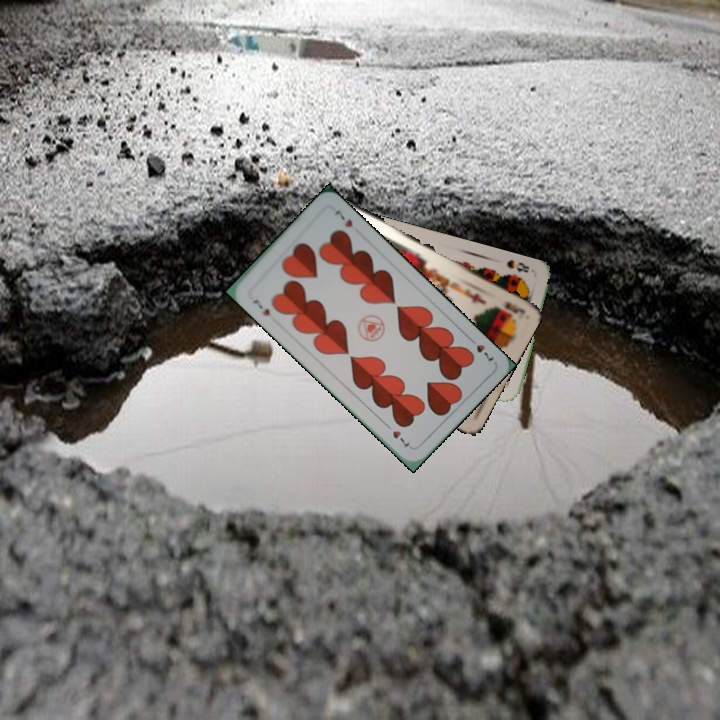H7: (464, 333, 496, 365), (249, 295, 272, 318)
S8: (502, 256, 532, 275)
SK: (500, 298, 527, 317)
